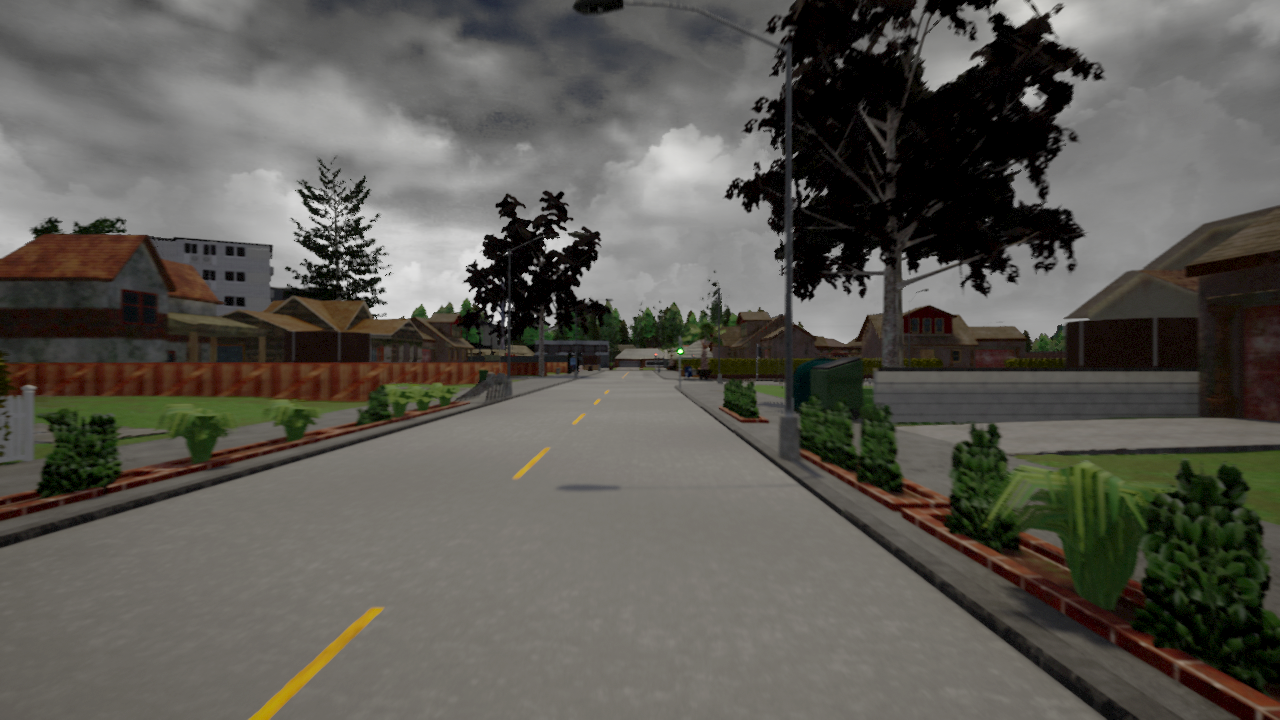green: (677, 338, 685, 354)
